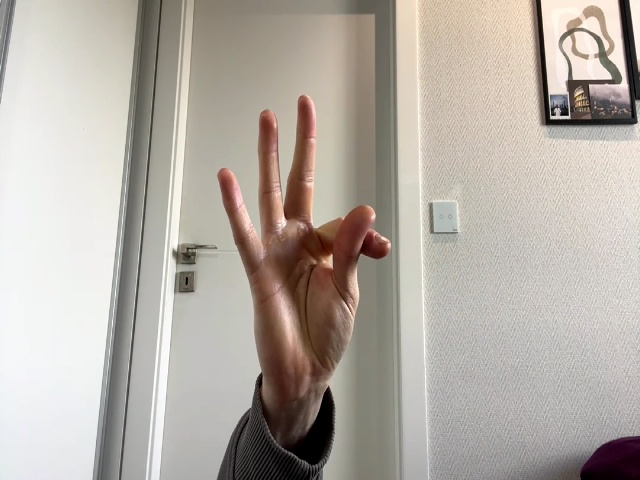T: (218, 95, 392, 382)
